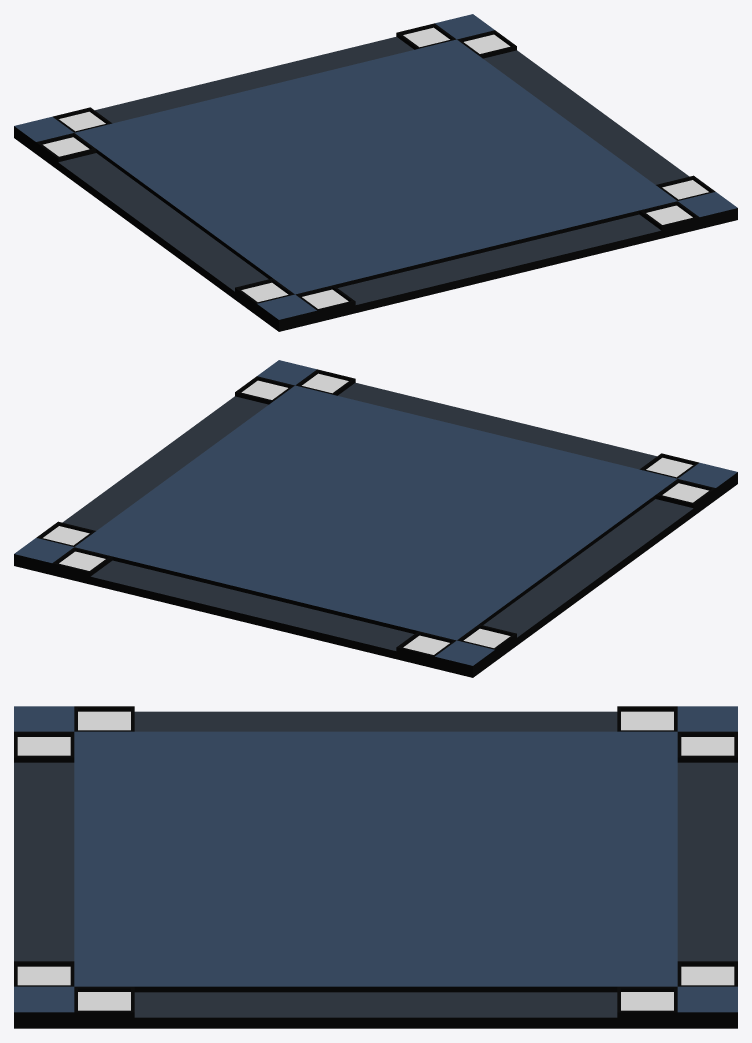
The model's file is HallwayFloorIntersection.fbx.
3 renders of one model, top to bottom at view 1: azimuth 30°, elevation 25°; view 2: azimuth 150°, elevation 25°; view 3: azimuth 270°, elevation 25°, orthographic. The views are drawn at different scales.
Parts seen in each view (by area): view 1: HallwayFloorIntersection; view 2: HallwayFloorIntersection; view 3: HallwayFloorIntersection.
Boxes of the visible parts, bbox=[...] form: HallwayFloorIntersection: bbox=[14, 14, 737, 331]; HallwayFloorIntersection: bbox=[14, 360, 737, 677]; HallwayFloorIntersection: bbox=[14, 706, 737, 1028].
Size of the model in its own units: 600 by 15 by 600.
